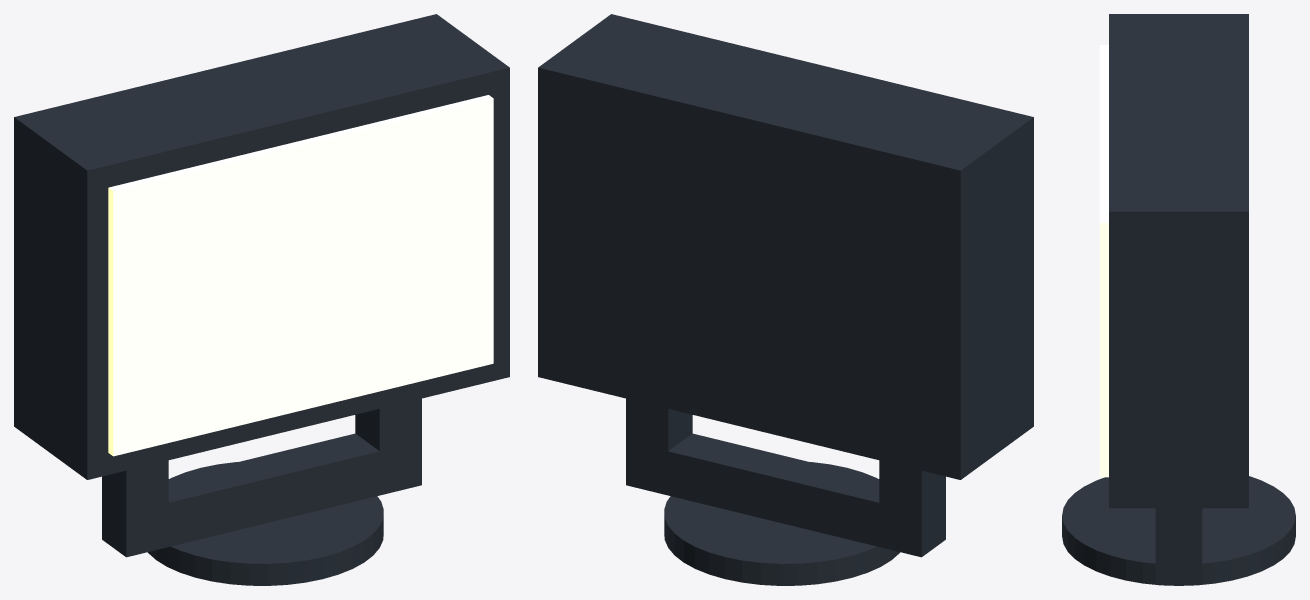
Rendered from 14_garden_projector.glb.
The picture shows the model from 3 angles, left to right: view 1: azimuth 30°, elevation 25°; view 2: azimuth 150°, elevation 25°; view 3: azimuth 270°, elevation 25°; orthographic projection. The views are drawn at different scales.
Bounding box in the file's own units: 0.2 × 0.2 × 0.1.
